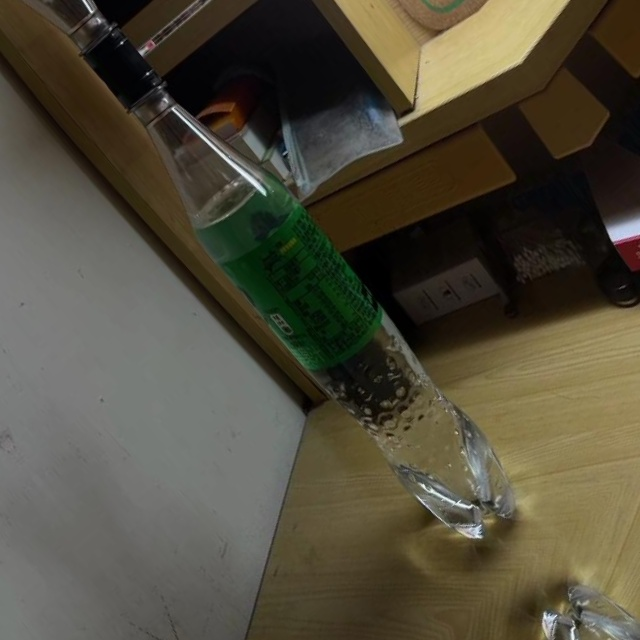Sprite: (82, 37, 540, 556)
